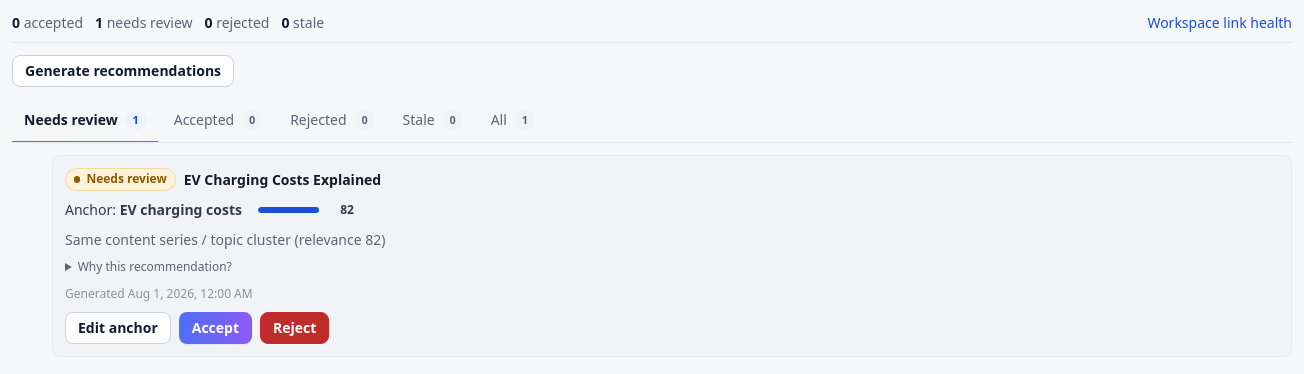
it: InternalLinkRecommendations › accept: adopts ACCEPTED status and removes mutation controls
The image size is (1304, 374).
Click the button "Accept": coordinates (215, 328) [179,312,252,344]
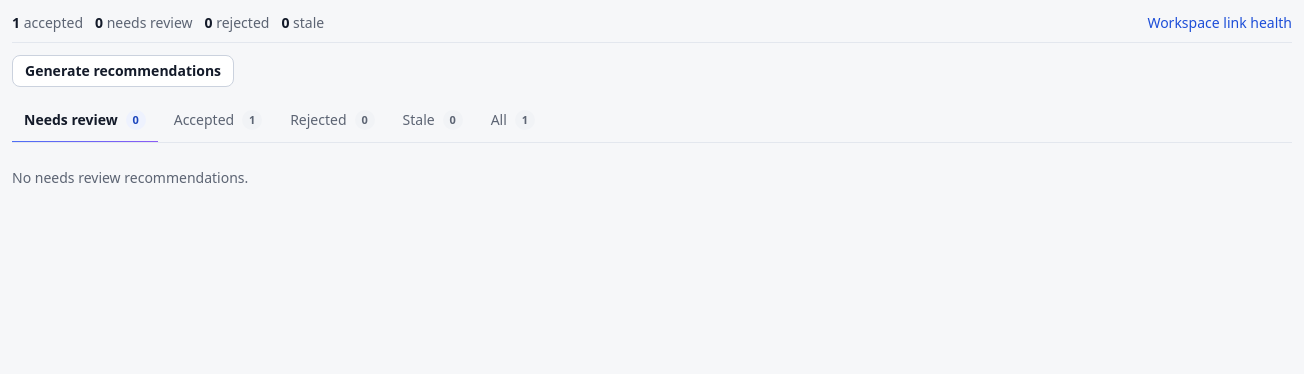
// The row is refreshed, not lost: it now lives under the Accepted filter with no mutation controls.
Click the tab "Accepted 1": coordinates (218, 121) [162,99,274,143]
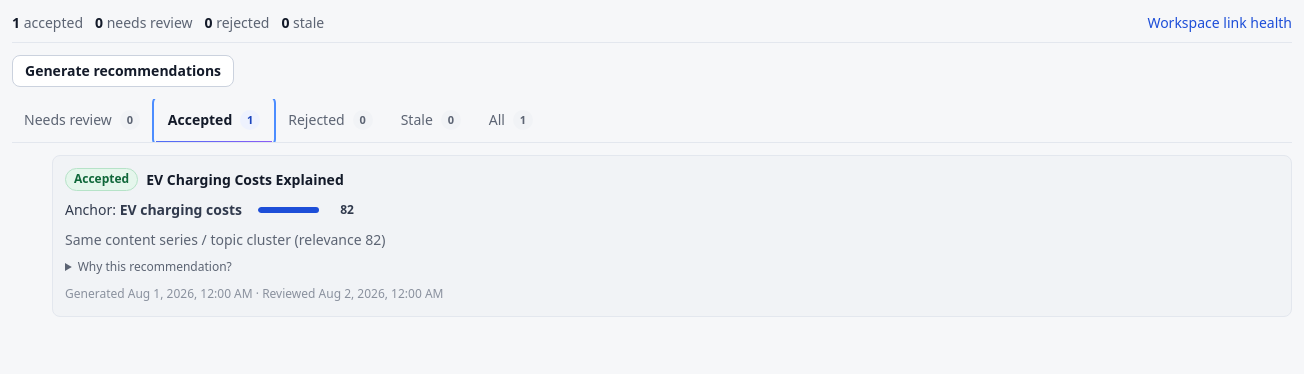
Result: the text "EV Charging Costs Explained" is shown at [146,169,344,190]
